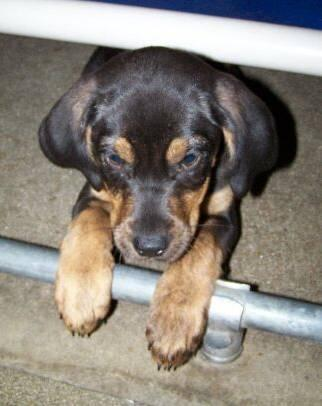dog: (38, 47, 278, 368)
